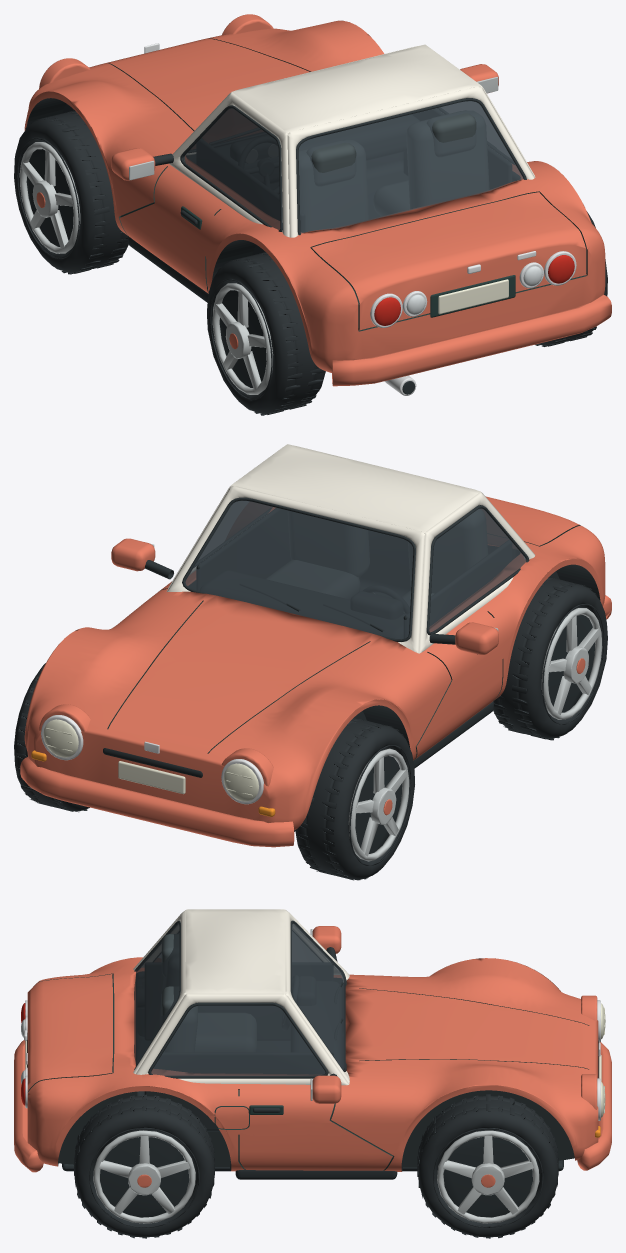
File: roadster_lod1.fbx
3 renders of one model, top to bottom at view 1: azimuth 30°, elevation 25°; view 2: azimuth 150°, elevation 25°; view 3: azimuth 270°, elevation 25°, orthographic. The views are drawn at different scales.
Visible parts, largest first — view 1: Body, Wheel_RL_Mesh, Wheel_FL_Mesh; view 2: Body, Wheel_FL_Mesh, Wheel_RL_Mesh, Wheel_FR_Mesh; view 3: Body, Wheel_FR_Mesh, Wheel_RR_Mesh, Wheel_RL_Mesh.
Part boxes in pixels (box(x1,y1,x2,y2)): Body: box(24, 14, 611, 395); Wheel_RL_Mesh: box(207, 252, 325, 415); Wheel_FL_Mesh: box(14, 110, 128, 274); Body: box(20, 444, 611, 847); Wheel_FL_Mesh: box(295, 718, 414, 880); Wheel_RL_Mesh: box(493, 577, 607, 740); Wheel_FR_Mesh: box(14, 663, 89, 812); Body: box(14, 909, 611, 1179); Wheel_FR_Mesh: box(417, 1094, 558, 1238); Wheel_RR_Mesh: box(74, 1094, 214, 1238); Wheel_RL_Mesh: box(137, 978, 144, 1036).
Size of the model in its own units: 226 by 145 by 348.
